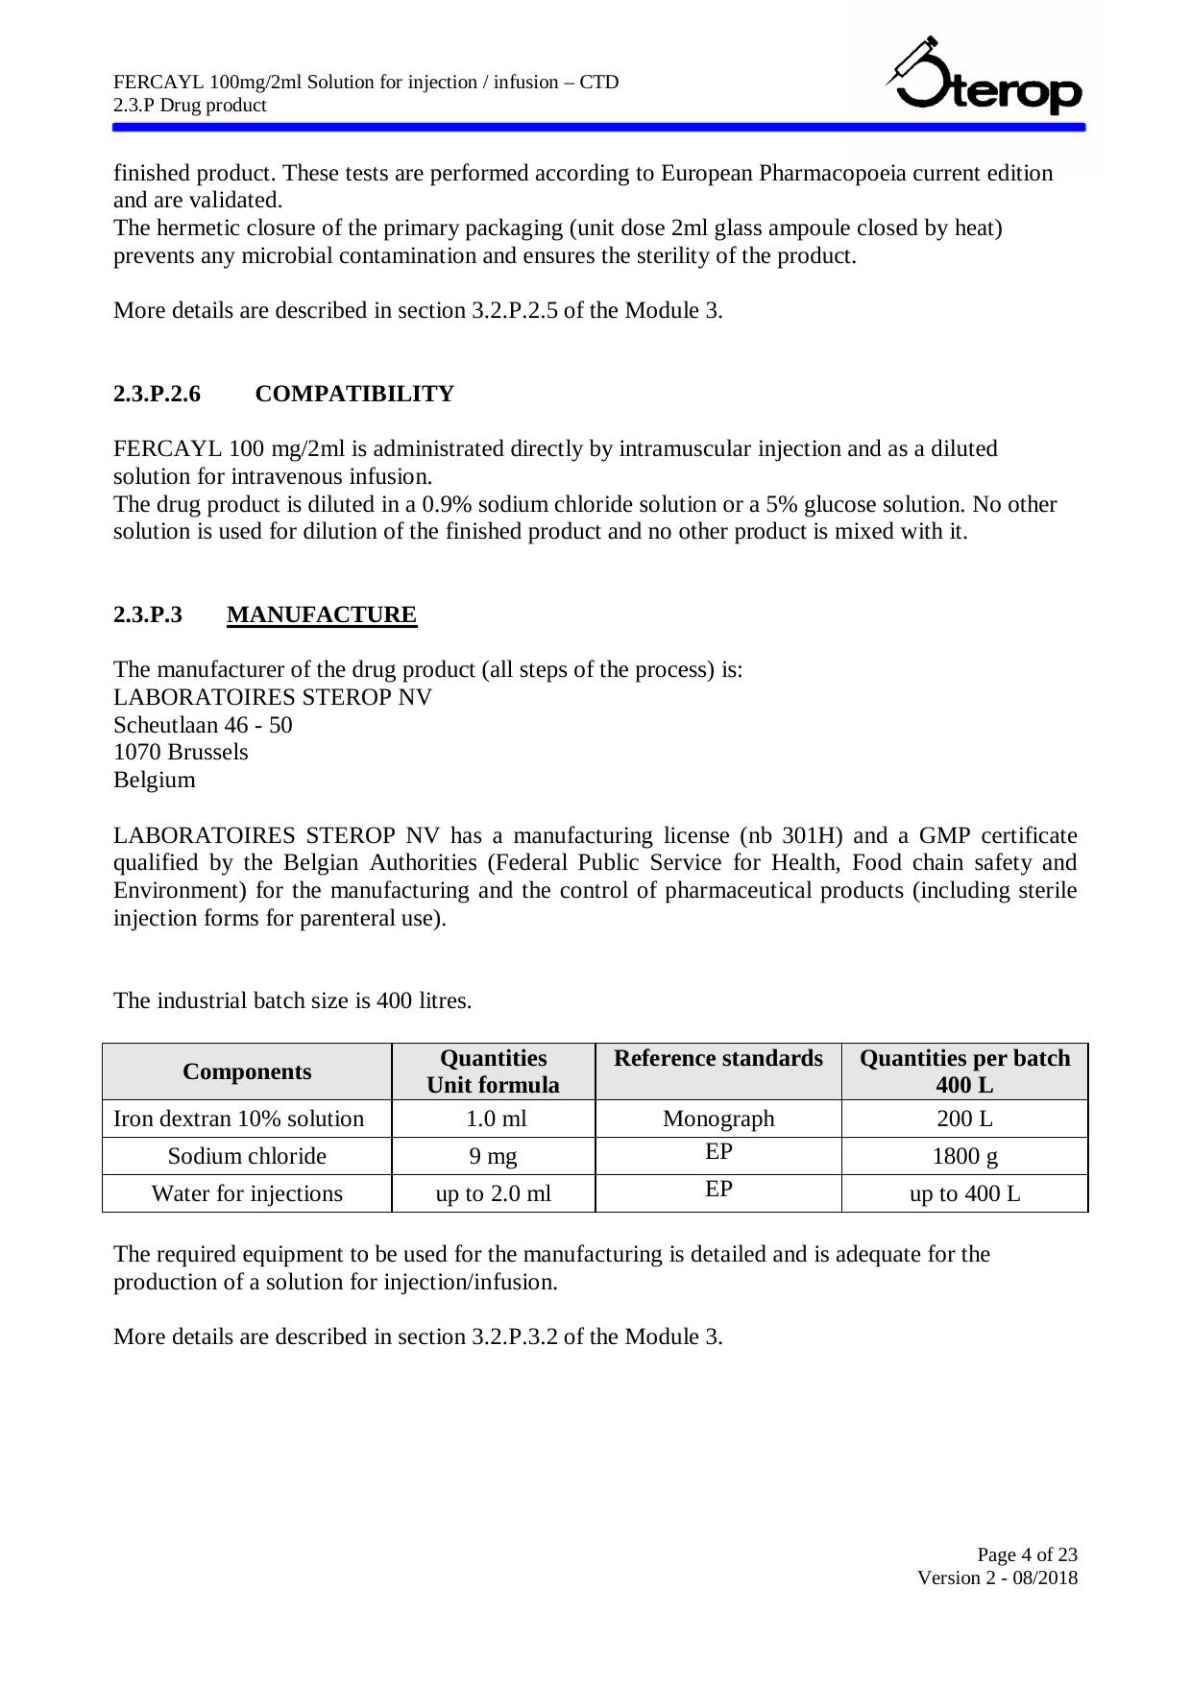full_lined: (101, 1042, 1090, 1213)
